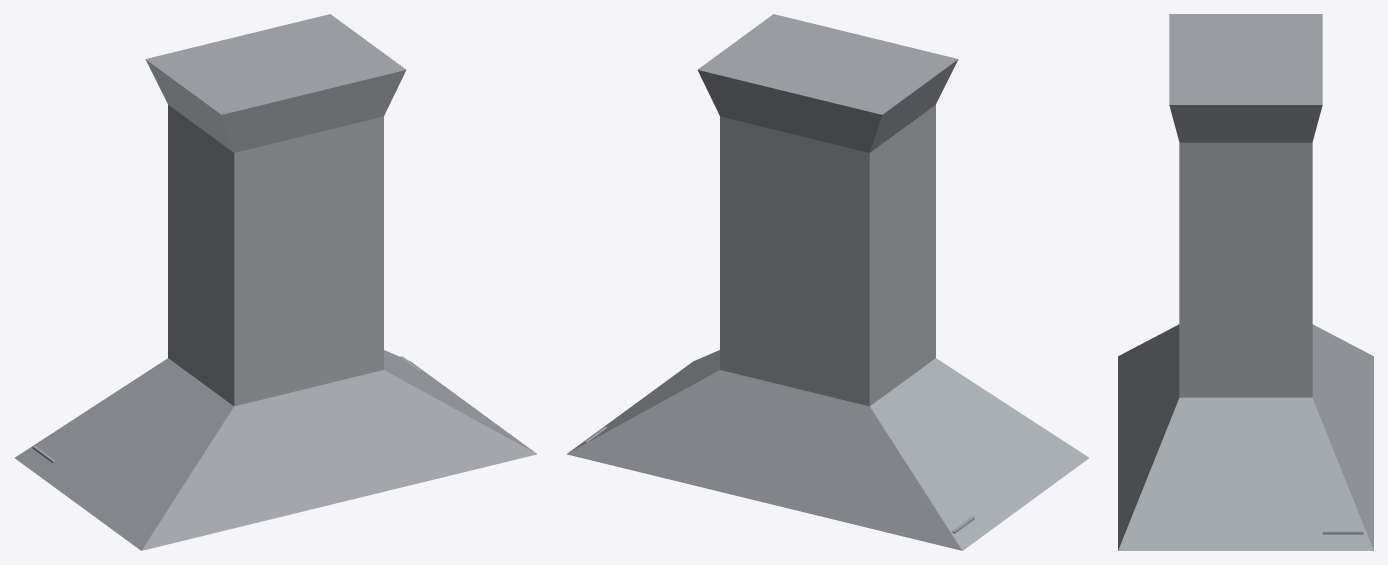
The model's file is SM_LPI_Kitchen_Extractor_01.fbx.
The picture shows the model from 3 angles, left to right: view 1: azimuth 30°, elevation 25°; view 2: azimuth 150°, elevation 25°; view 3: azimuth 270°, elevation 25°; orthographic projection.
Parts seen in each view (by area): view 1: SM_LPI_Kitchen_Extractor_01; view 2: SM_LPI_Kitchen_Extractor_01; view 3: SM_LPI_Kitchen_Extractor_01.
Part boxes in pixels (box(x1,y1,x2,y2)): SM_LPI_Kitchen_Extractor_01: box(15, 14, 536, 550); SM_LPI_Kitchen_Extractor_01: box(567, 14, 1088, 550); SM_LPI_Kitchen_Extractor_01: box(1118, 14, 1373, 550).
Size of the model in its own units: 0.9 by 0.872 by 0.5.
